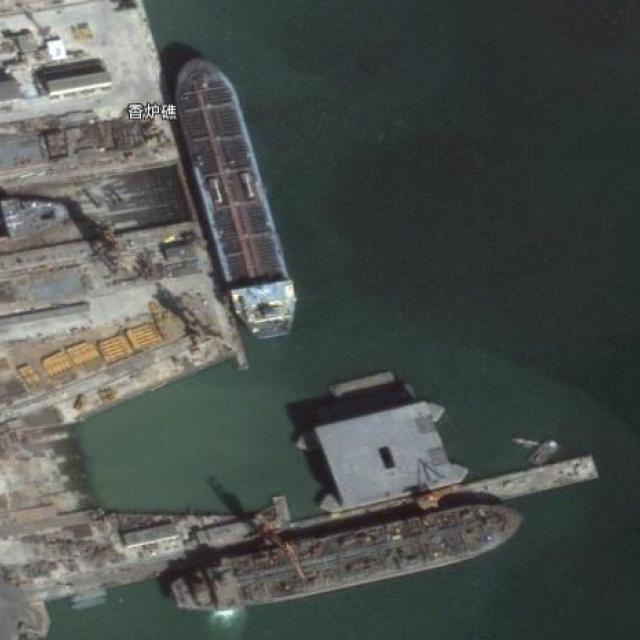Oil Tanker: (168, 494, 529, 622), (163, 50, 305, 345)
